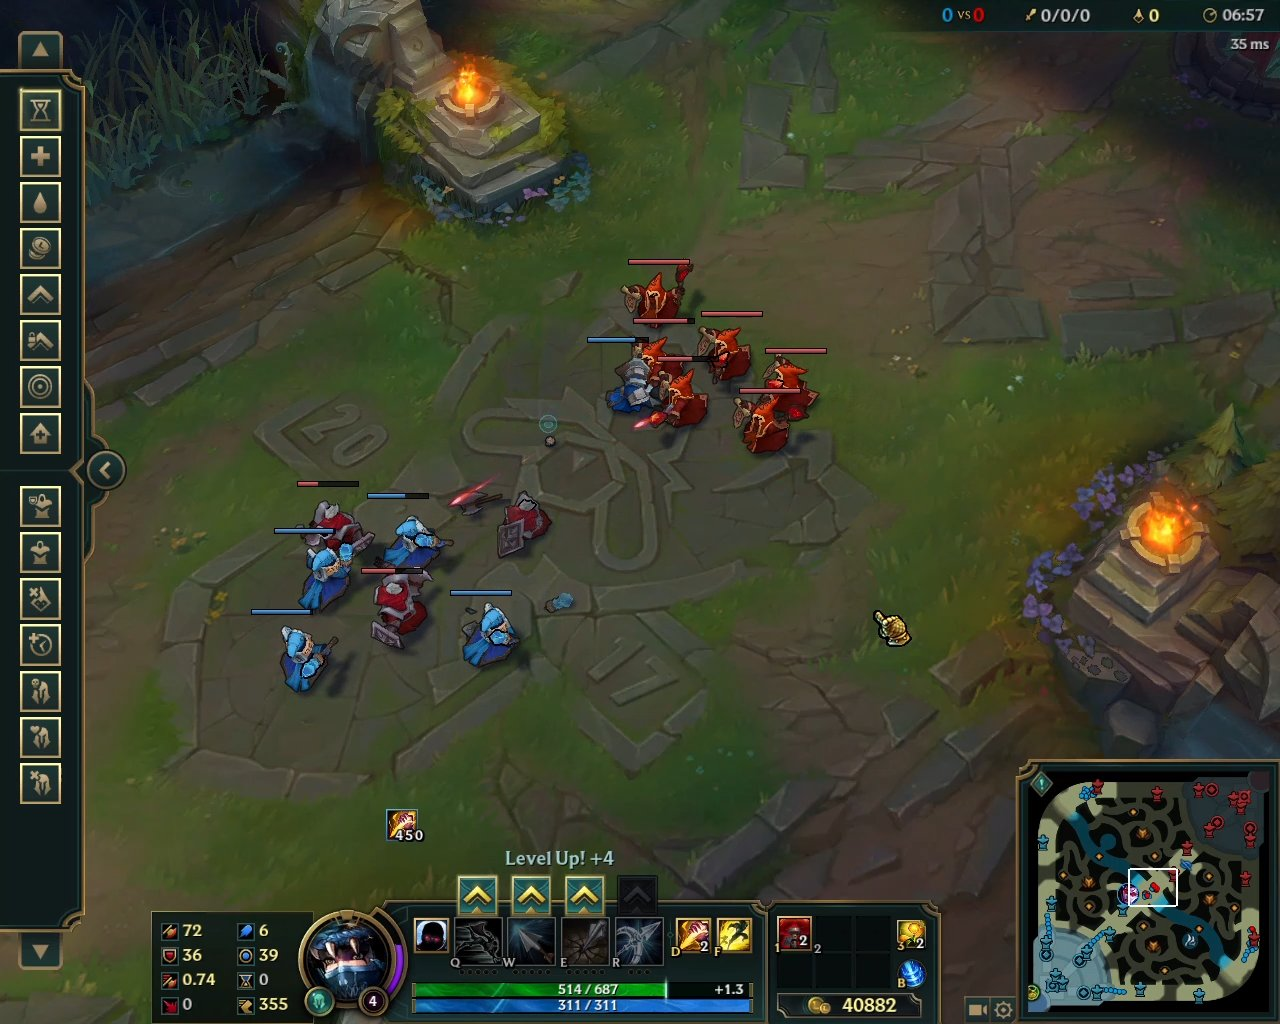EnemyMinion: (294, 480, 377, 563), (362, 562, 430, 649), (622, 258, 694, 332), (649, 355, 720, 430), (692, 311, 763, 381), (730, 387, 799, 456), (626, 319, 693, 380), (760, 349, 829, 408)
